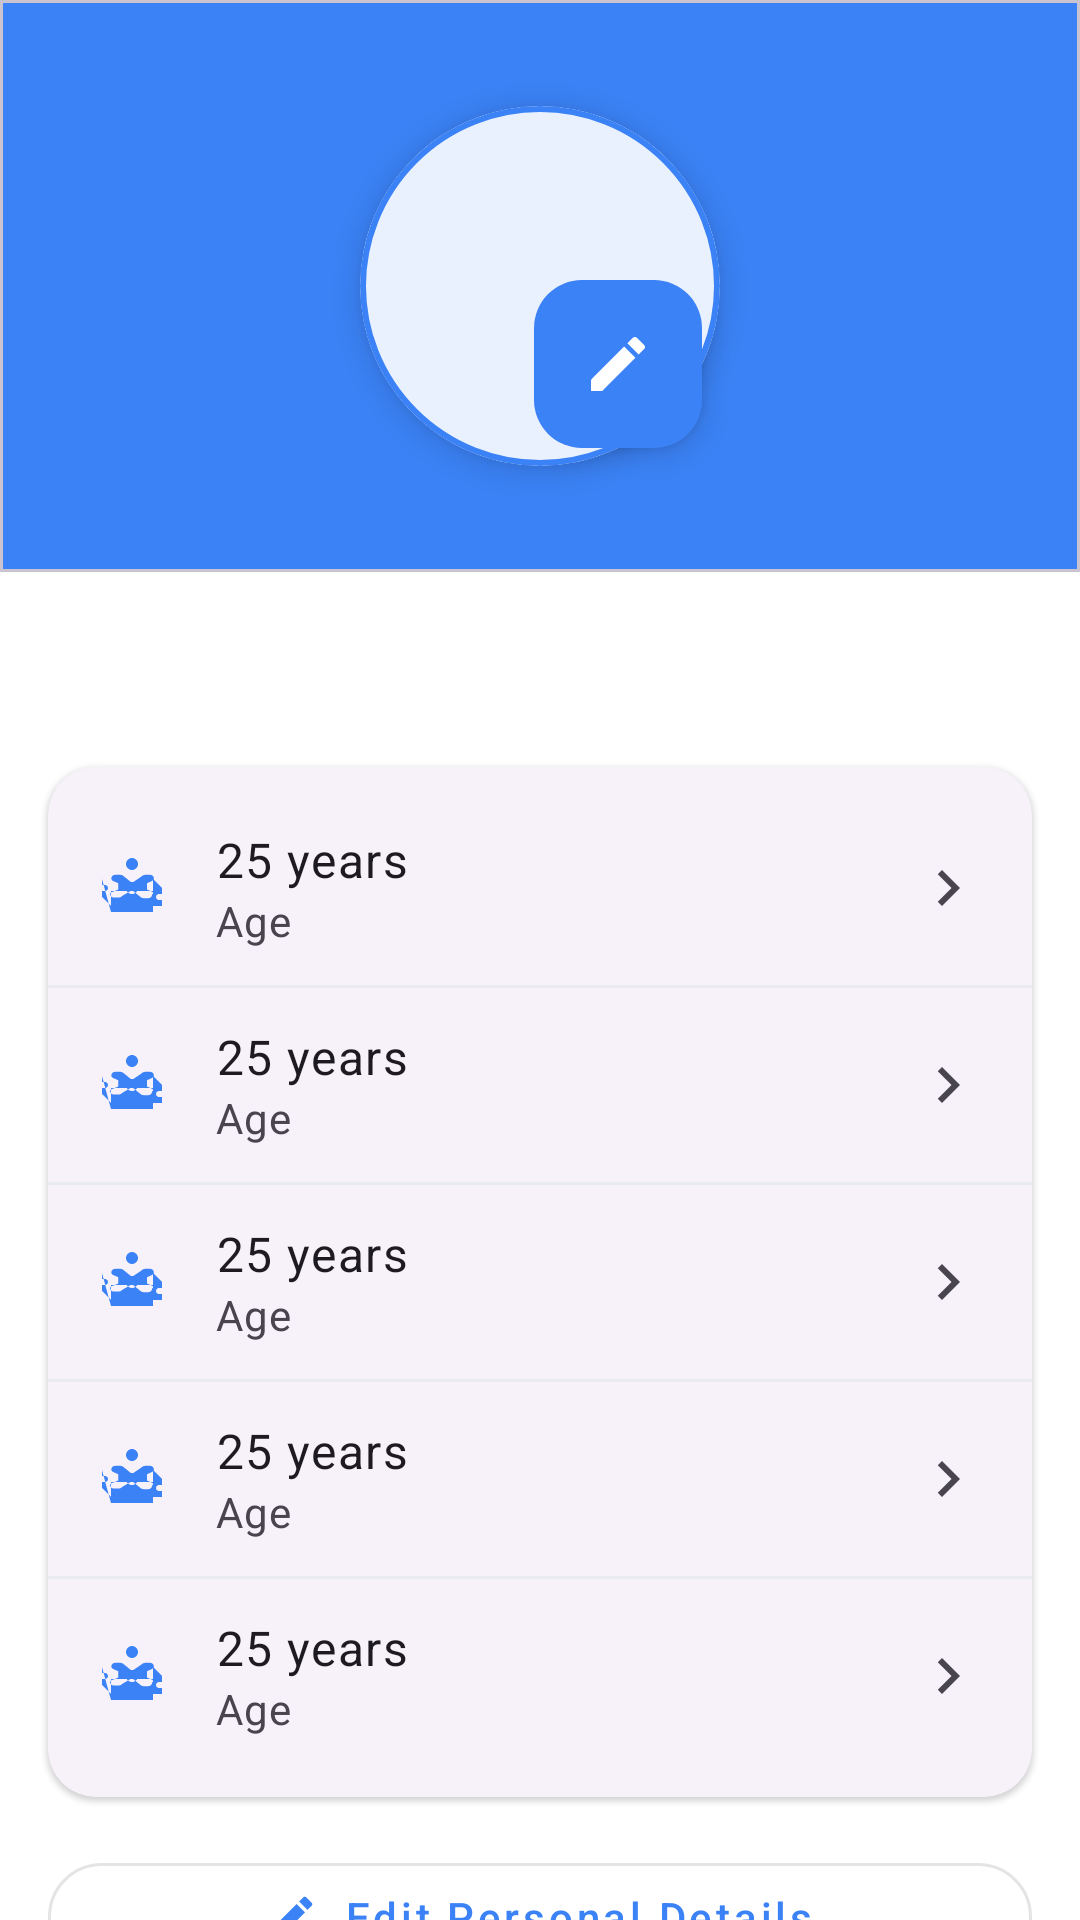

Screen size 1080*1920. Icon name, then its box in pixels as (x1, y1, x2, y2):
chevron right: (938, 870, 960, 906), (938, 1067, 960, 1103), (938, 1264, 960, 1300), (938, 1461, 960, 1497), (938, 1658, 960, 1694)
edit: (534, 280, 702, 448)
